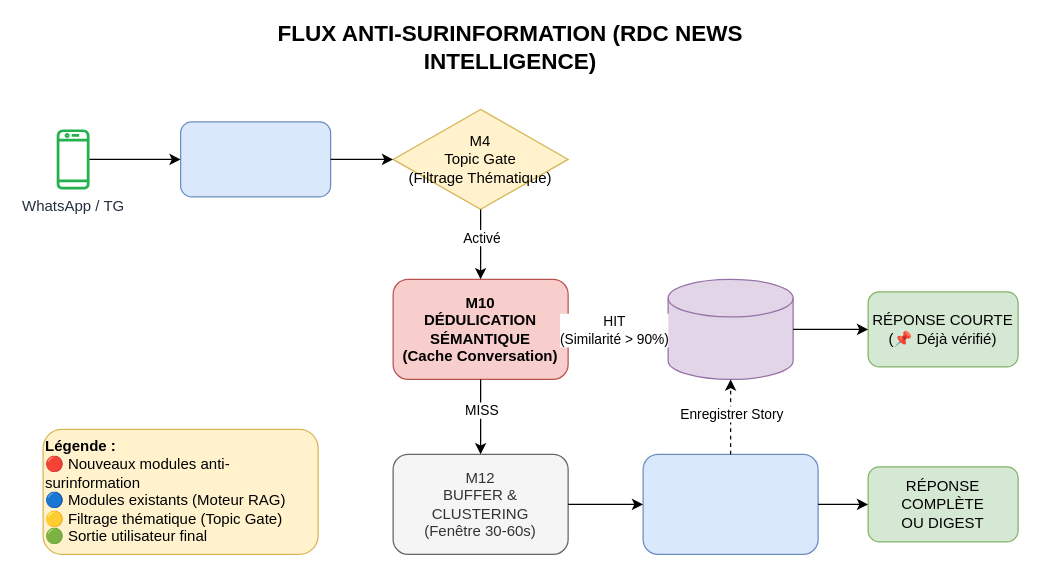
Image size: 1040x576. Some labels were removed from this diagram. The centre of each missing label's shape, as x and y in pixels:
M1 & M9 Parser & OCR: [255,159]
M7 & M6 MOTEUR RAG (Chroma + Mistral): [730,503]
STORY HUB (Fiches de vérité existantes): [730,328]
